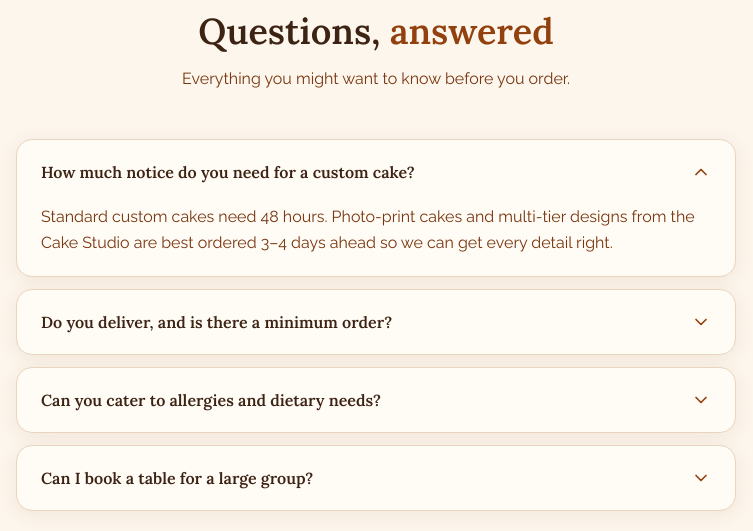
Scenario: Faq › expands a question when clicked
Click the button "Do you deliver, and is there a minimum order?" at (376, 322), box [17,290,735,354]
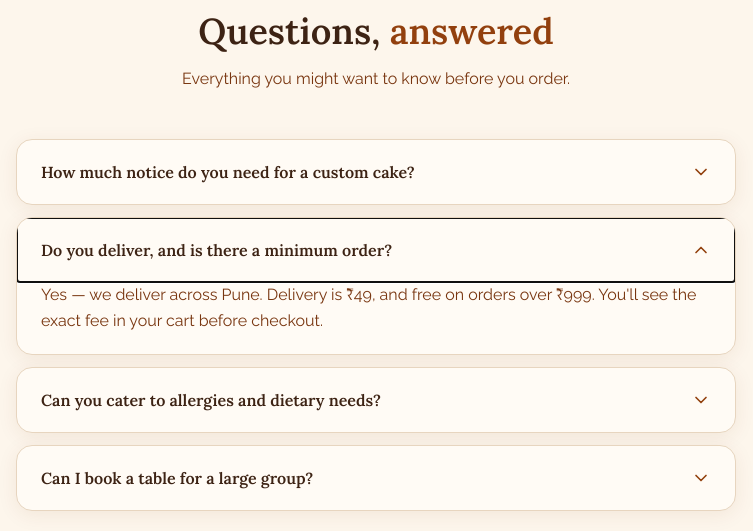
Check: the button "Do you deliver, and is there a minimum order?" is expanded, box [17,218,735,282]
Check: the text "Yes — we deliver across Pune. Delivery is ₹49, and free on orders over ₹999. You'll see the exact fee in your cart befor" is shown, box [41,285,696,330]
